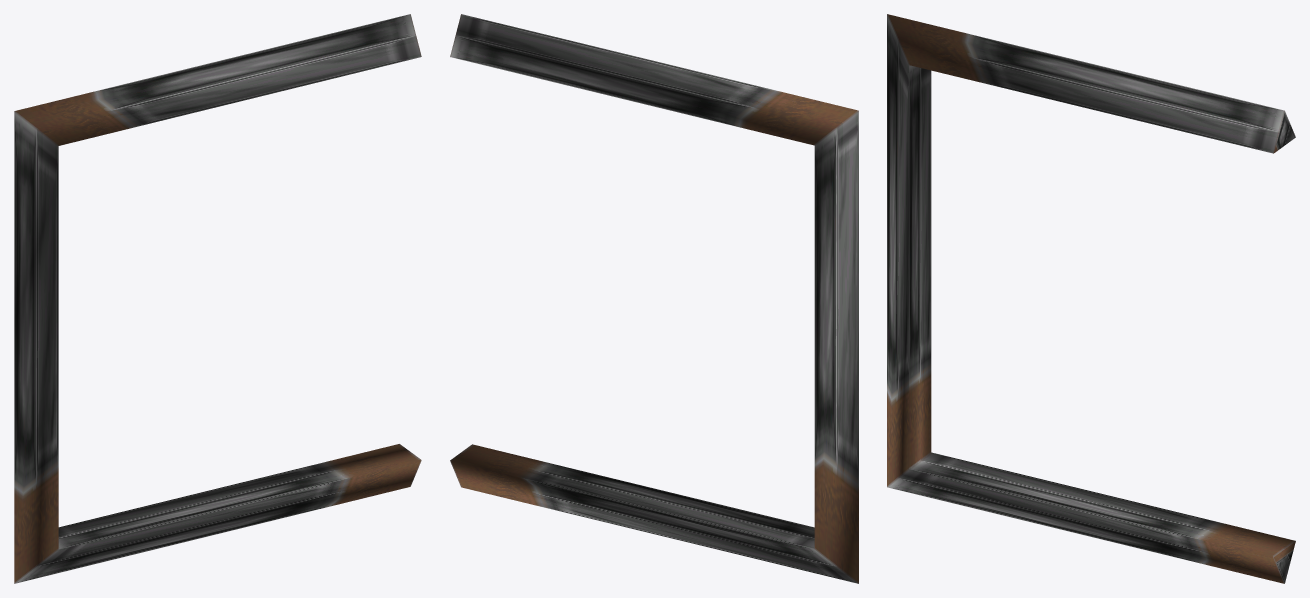
The model's file is INST_SWORDLIGHT_BRKT8M.fbx.
3 renders of one model, left to right at view 1: azimuth 30°, elevation 25°; view 2: azimuth 150°, elevation 25°; view 3: azimuth 330°, elevation 25°, orthographic.
Visible parts, largest first — view 1: INST_SWORDLIGHT_BRKT8M; view 2: INST_SWORDLIGHT_BRKT8M; view 3: INST_SWORDLIGHT_BRKT8M.
Part boxes in pixels (x1,y1,x2,y2): INST_SWORDLIGHT_BRKT8M: (14, 14, 421, 583); INST_SWORDLIGHT_BRKT8M: (450, 14, 858, 583); INST_SWORDLIGHT_BRKT8M: (887, 14, 1295, 583).
Size of the model in its own units: 15463 by 17599 by 1529.
Materials: 1 (1 with a texture image).
